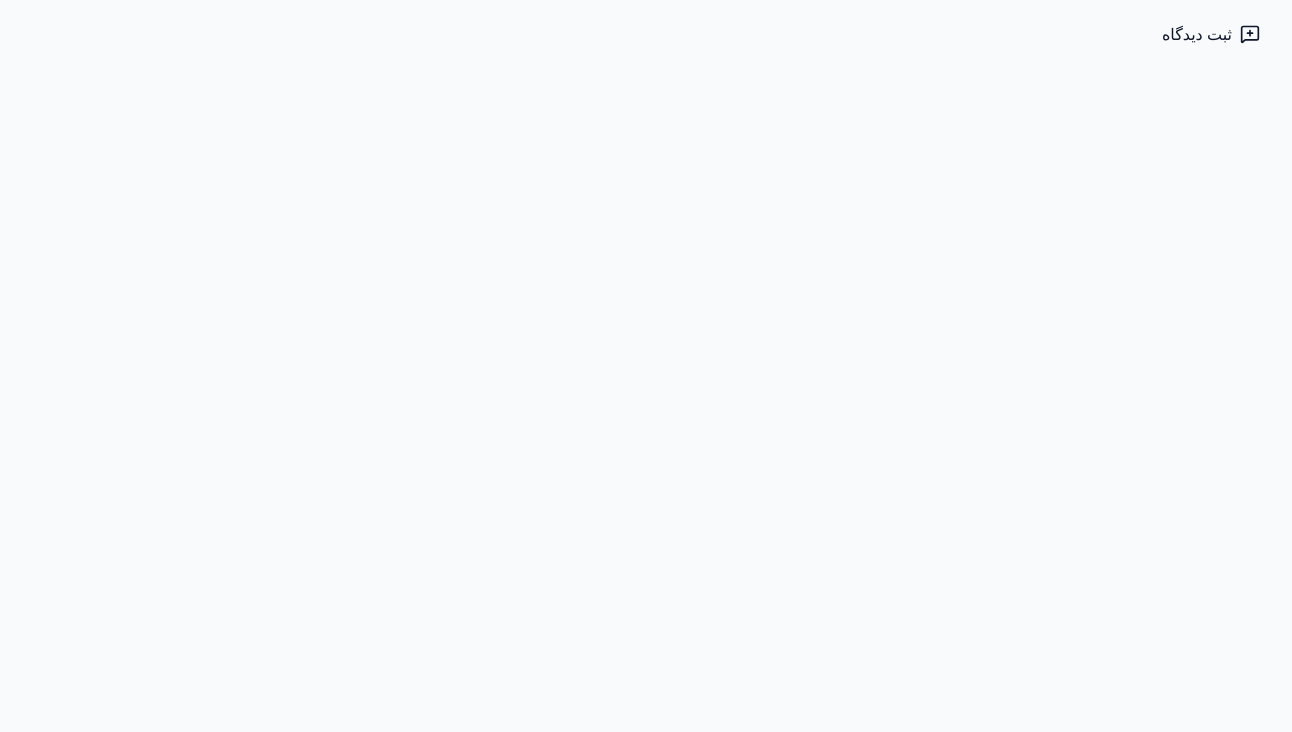
it: CommentComposer for reviews › shows the moderation message in place of the form once sent (no optimistic entry)
Click the button "ثبت دیدگاه": coordinates (1211, 34) [1142, 12, 1280, 56]
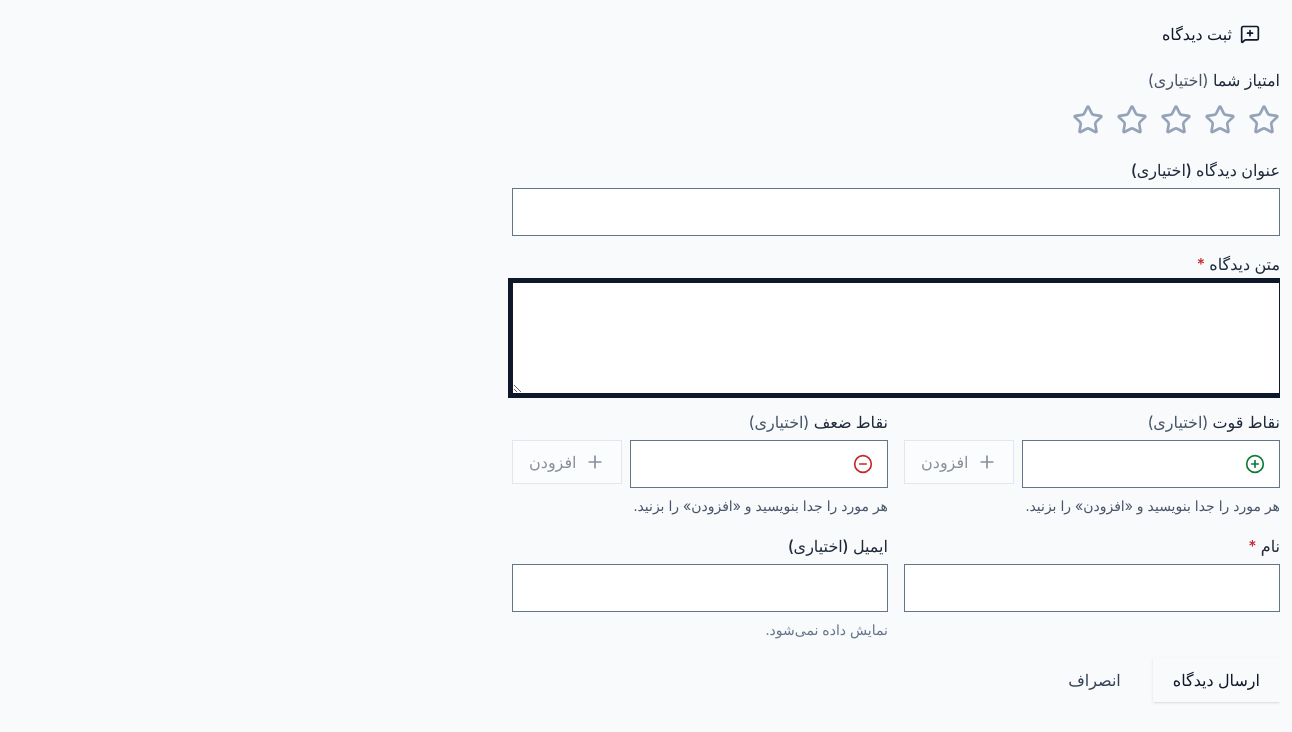
In the text box labelled "متن دیدگاه *": coordinates (896, 338) [512, 282, 1280, 394], type "عالی"
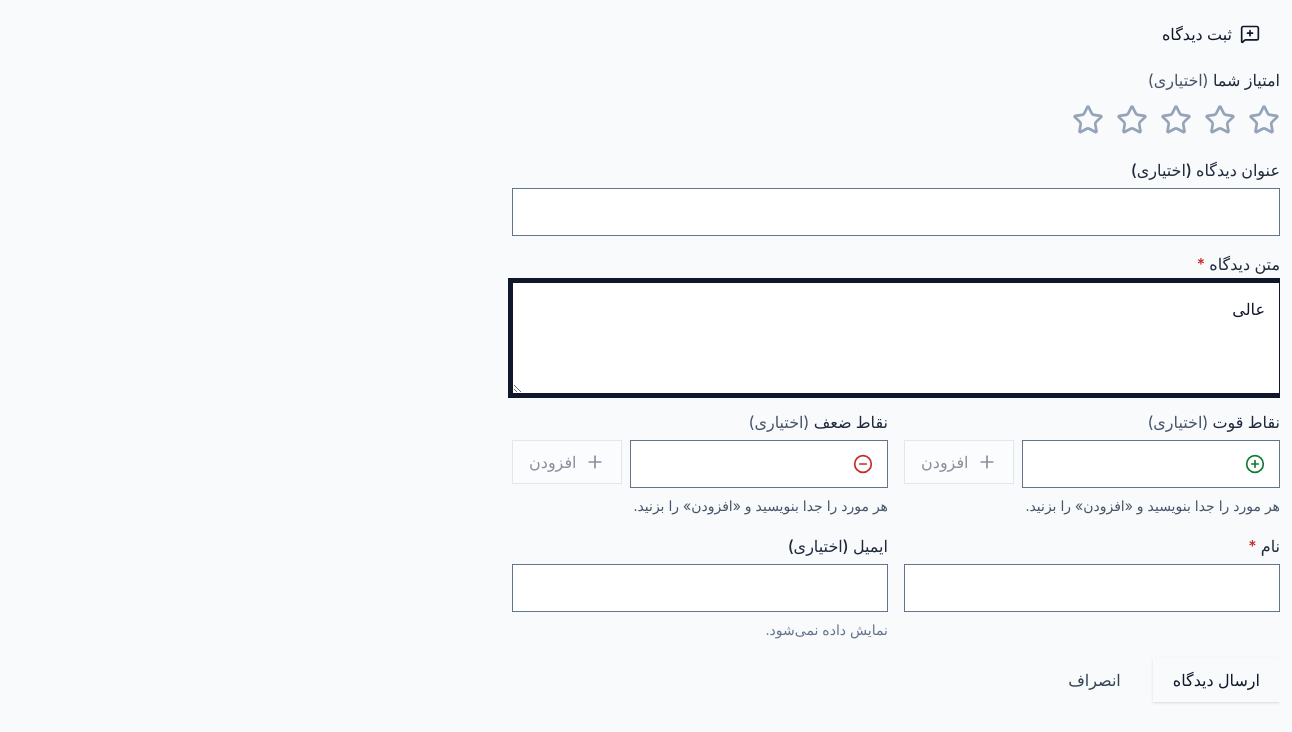
In the field named "نام (": coordinates (1092, 588) [905, 565, 1279, 611], type "سارا"
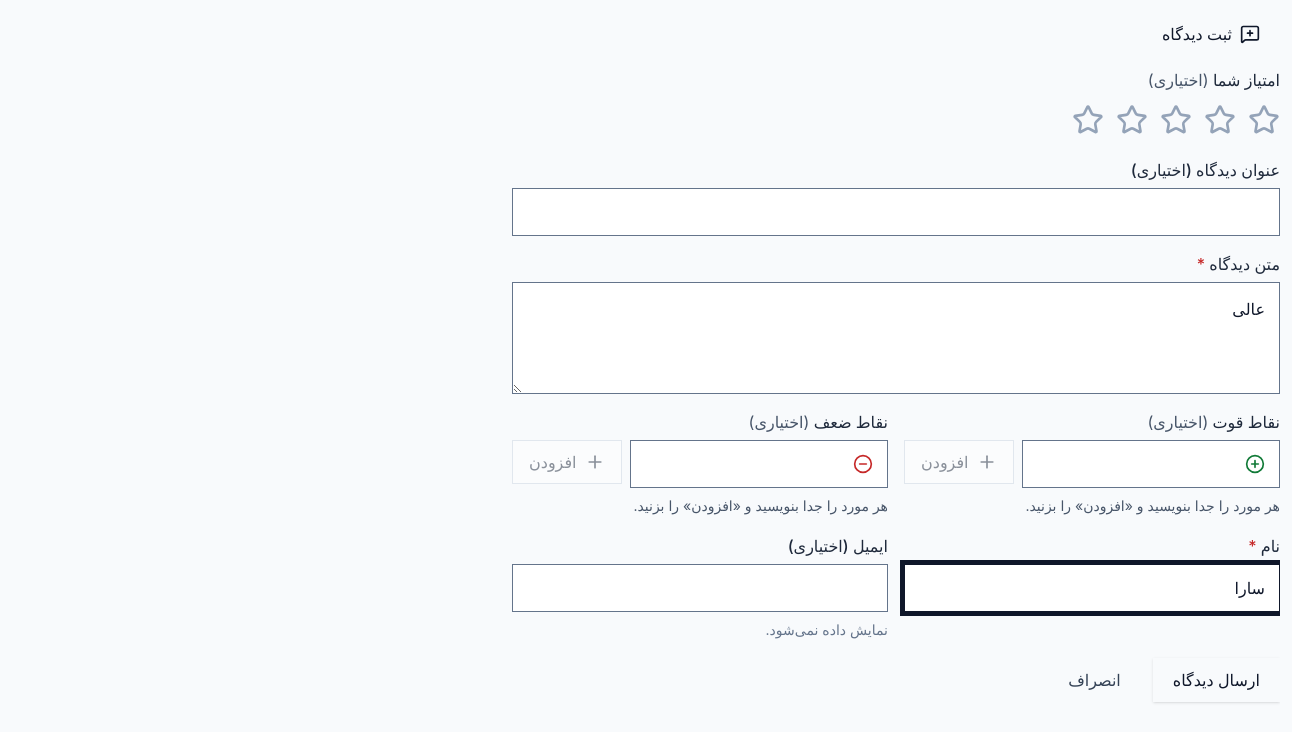
Click the button "ارسال دیدگاه": coordinates (1216, 680) [1153, 658, 1280, 702]
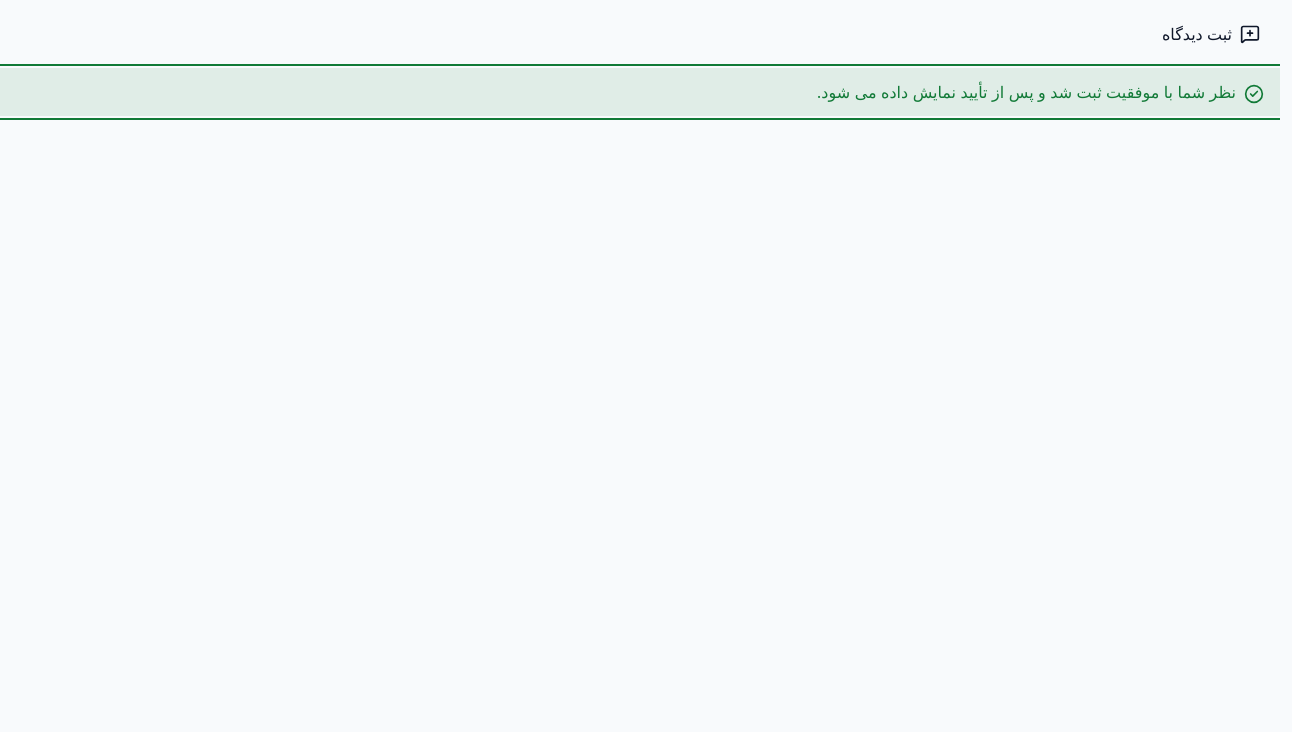
expect the message reads "نظر شما با موفقیت ثبت شد و پس از تأیید نمایش داده می شود.": met, box [817, 82, 1236, 102]
expect the form is gone: met
